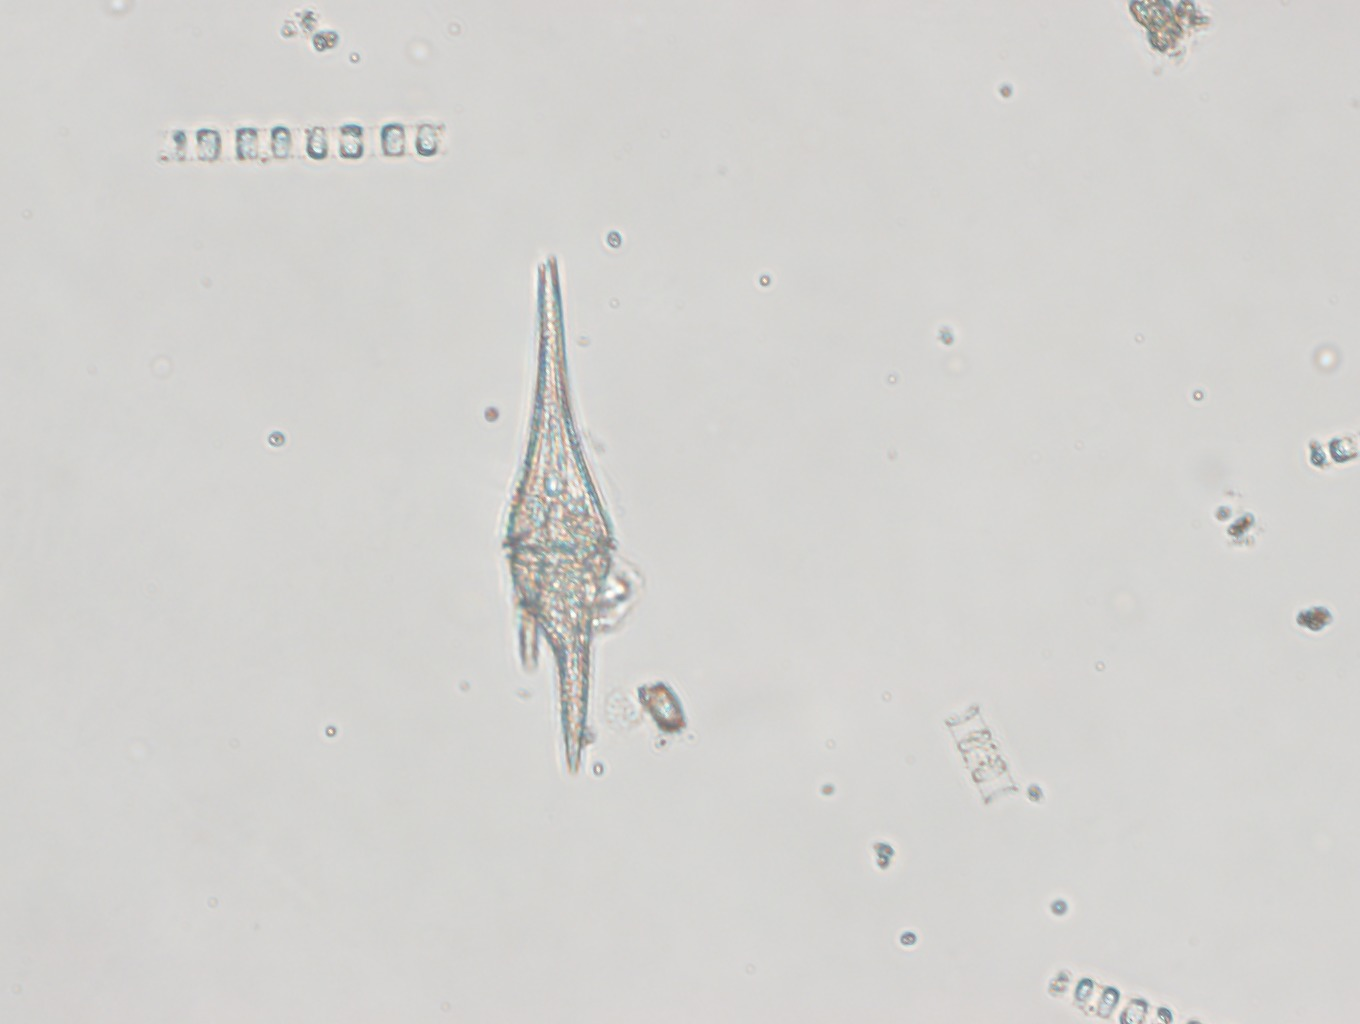ceratium furca: (504, 248, 619, 780)
skeletonema: (152, 114, 450, 166), (1037, 965, 1214, 1024), (937, 707, 1023, 807)
